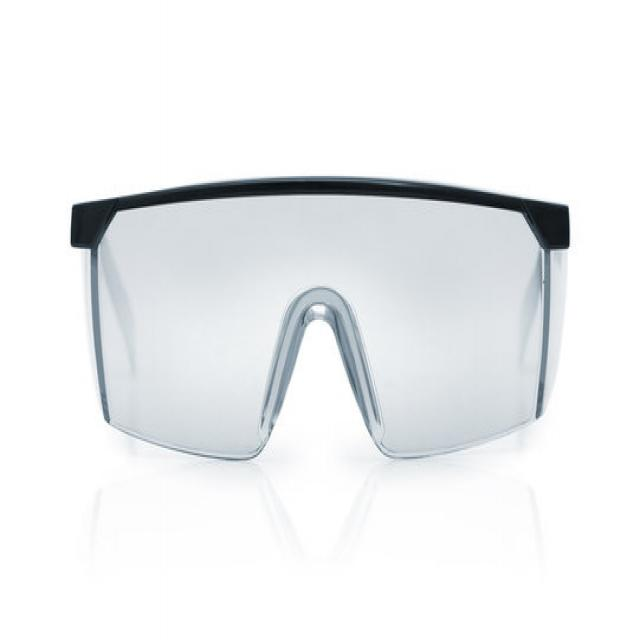Protective Glasses: (56, 137, 584, 481)
